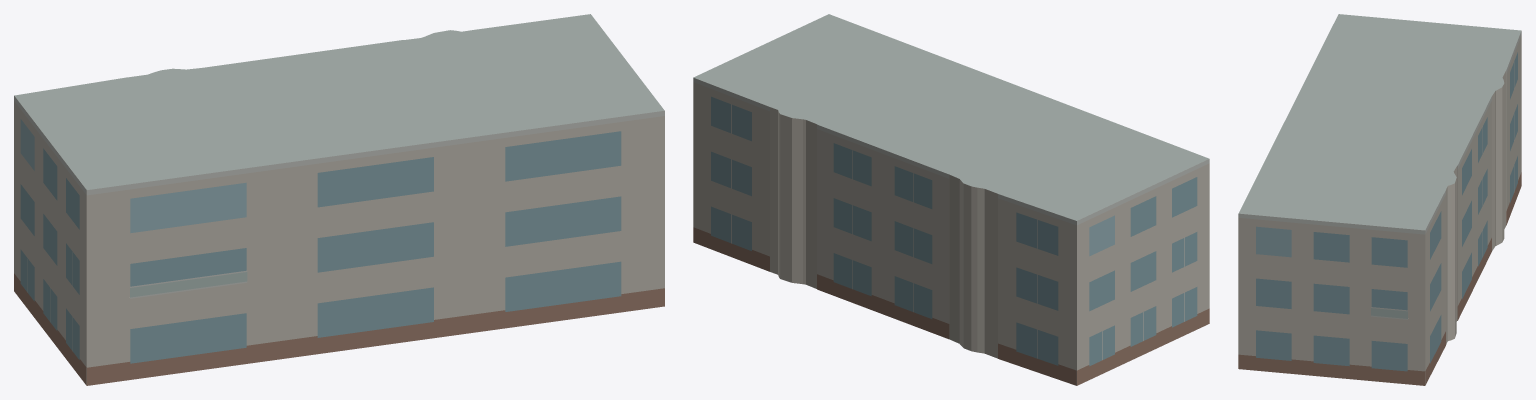
File: survey-upis-32758948.glb
3 renders of one model, left to right at view 1: azimuth 30°, elevation 25°; view 2: azimuth 150°, elevation 25°; view 3: azimuth 270°, elevation 25°, orthographic. The views are drawn at different scales.
Parts seen in each view (by area): view 1: survey-upis-32758948.tmp; view 2: survey-upis-32758948.tmp; view 3: survey-upis-32758948.tmp.
Part boxes in pixels (left/top/right/bottom): survey-upis-32758948.tmp: left=14, top=14, right=664, bottom=385; survey-upis-32758948.tmp: left=693, top=14, right=1209, bottom=385; survey-upis-32758948.tmp: left=1238, top=14, right=1521, bottom=385.
Size of the model in its own units: 27.34 by 9.15 by 15.12.
